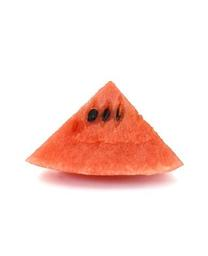watermelon: (21, 80, 186, 179)
